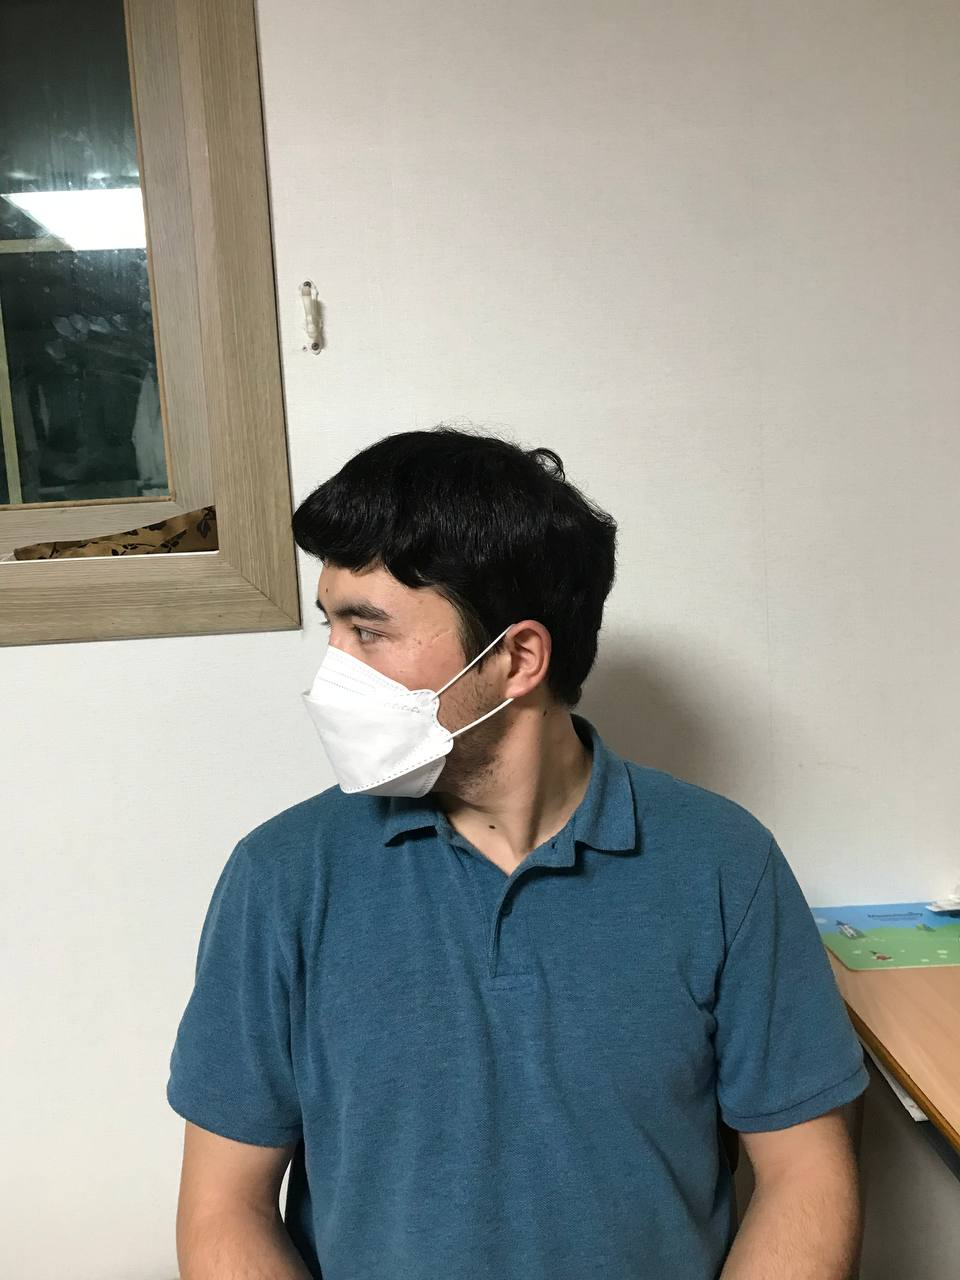Mask: (301, 642, 584, 802)
